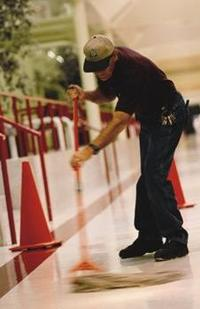person: (67, 34, 191, 263)
